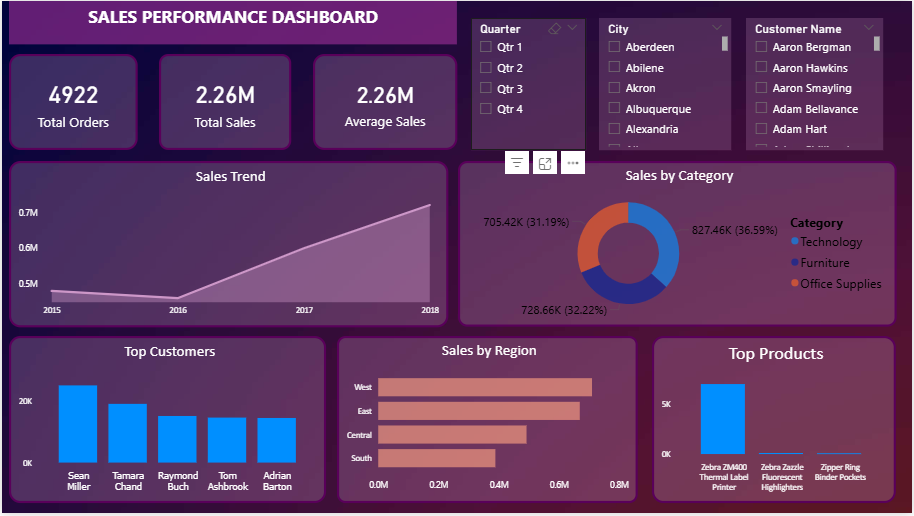

Layout of this report page (visuals, bound fields, positions):
{"tool":"powerbi","page":{"name":"Page 1","canvas":[1280,720],"ordinal":0},"visuals":[{"type":"textbox","box":[10.1,0,630.4,60.7],"z":0},{"type":"areaChart","title":"Sales Trend ","fields":{"Category":["public customer.Order Date.Variation.Date Hierarchy.Year"],"Y":["public customer.Total Sales"]},"box":[10.2,225.2,618,233.7],"z":1},{"type":"donutChart","title":"Sales by Category","fields":{"Category":["public customer.Category"],"Y":["public customer.Total Sales"]},"box":[640.8,224.9,617.2,233.3],"z":2},{"type":"barChart","title":"Sales by Region","fields":{"Category":["public customer.Region"],"Y":["public customer.Total Sales"]},"box":[471.8,471.8,422.7,235],"z":3},{"type":"card","fields":{"Values":["public customer.Total Orders"]},"box":[10.1,74.4,180.9,135.3],"z":4},{"type":"card","fields":{"Values":["public customer.Total Sales"]},"box":[221.5,74.4,186,135.3],"z":5},{"type":"card","fields":{"Values":["Sum(public customer.AOV)"]},"box":[437.9,74.4,202.9,135.3],"z":6},{"type":"clusteredColumnChart","title":"Top Products","fields":{"Category":["public customer.Product Name"],"Y":["public customer.Total Sales"]},"box":[914.8,471.8,343.2,235],"z":7},{"type":"clusteredColumnChart","title":"Top Customers","fields":{"Category":["public customer.Customer Name"],"Y":["Sum(public customer.AOV)"]},"box":[10.1,471.8,446.4,235],"z":8},{"type":"slicer","fields":{"Values":["public customer.Order Date.Variation.Date Hierarchy.Quarter"]},"box":[659.4,23.7,162.3,186],"z":9},{"type":"slicer","fields":{"Values":["public customer.City"]},"box":[840.4,23.7,186,186],"z":10},{"type":"slicer","fields":{"Values":["public customer.Customer Name"]},"box":[1046.7,23.7,192.8,186],"z":11}]}

Visuals, with their boxes in screenshot pixels (x1, y1, x2, y2), scaled from the page's 1280x720 canvas onto the 914x516 screenshot:
textbox: box=[7, 0, 457, 44]
"Sales Trend " areaChart: box=[7, 161, 449, 329]
"Sales by Category" donutChart: box=[458, 161, 898, 328]
"Sales by Region" barChart: box=[337, 338, 639, 507]
card - public customer.Total Orders: box=[7, 53, 136, 150]
card - public customer.Total Sales: box=[158, 53, 291, 150]
card - Sum(public customer.AOV): box=[313, 53, 458, 150]
"Top Products" clusteredColumnChart: box=[653, 338, 898, 507]
"Top Customers" clusteredColumnChart: box=[7, 338, 326, 507]
slicer - public customer.Order Date.Variation.Date Hierarchy.Quarter: box=[471, 17, 587, 150]
slicer - public customer.City: box=[600, 17, 733, 150]
slicer - public customer.Customer Name: box=[747, 17, 885, 150]
